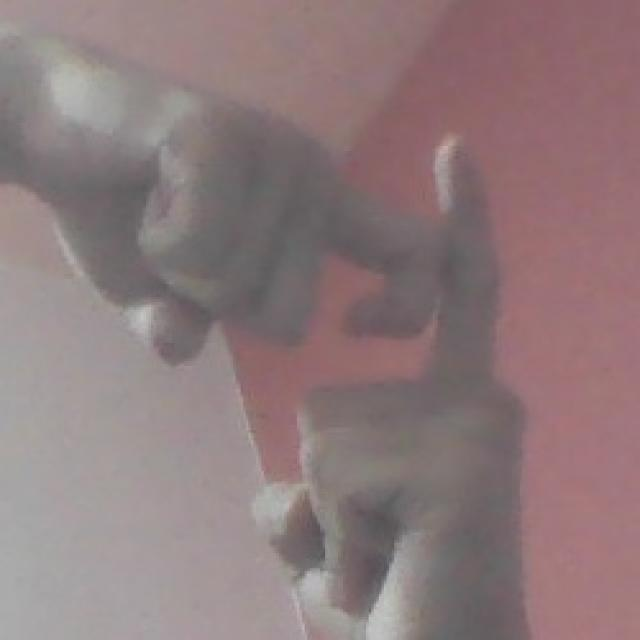Alphabet-K: (41, 16, 538, 640)
